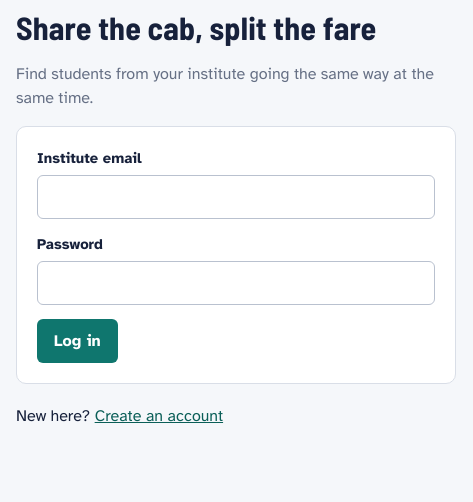
Test case: Login page › shows the server error and re-enables the button
Step 1. Type "aarav@iitbbs.ac.in" into the field labelled "Institute email" → (236, 197), box [37,175,435,219]
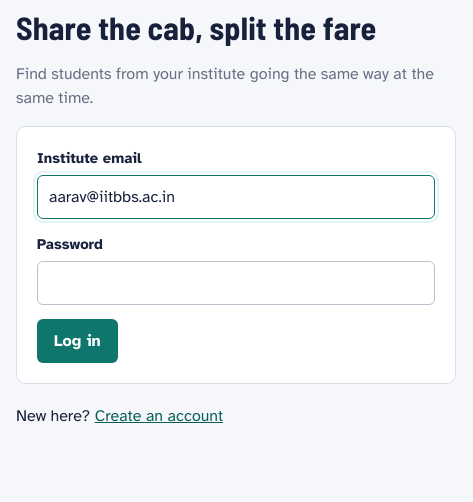
Step 2. Type "wrong-password" into the password field labelled "Password" → (236, 283), box [37,261,435,305]
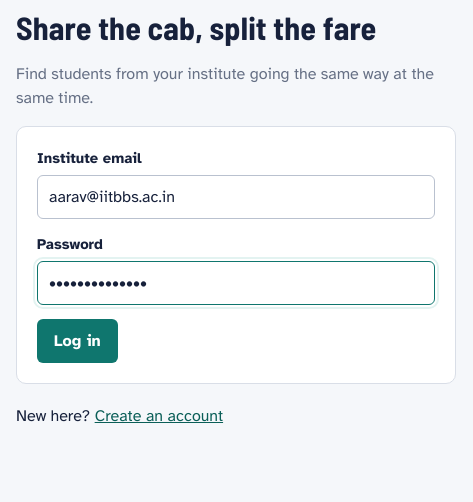
Step 3. Click the button "Log in" → (77, 341), box [37,319,118,363]
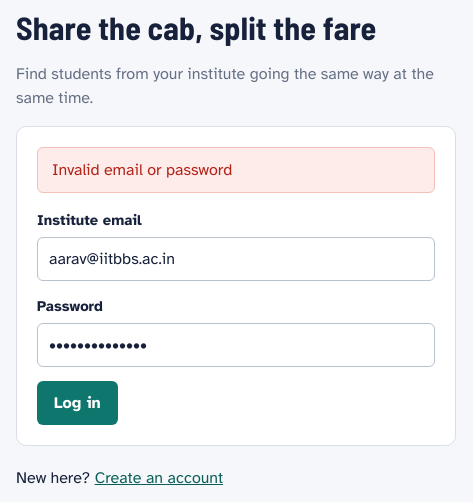
Expected: the button "Log in" is enabled, [37,381,118,425]
Expected: the message reads "Invalid email or password", [52,160,232,180]
